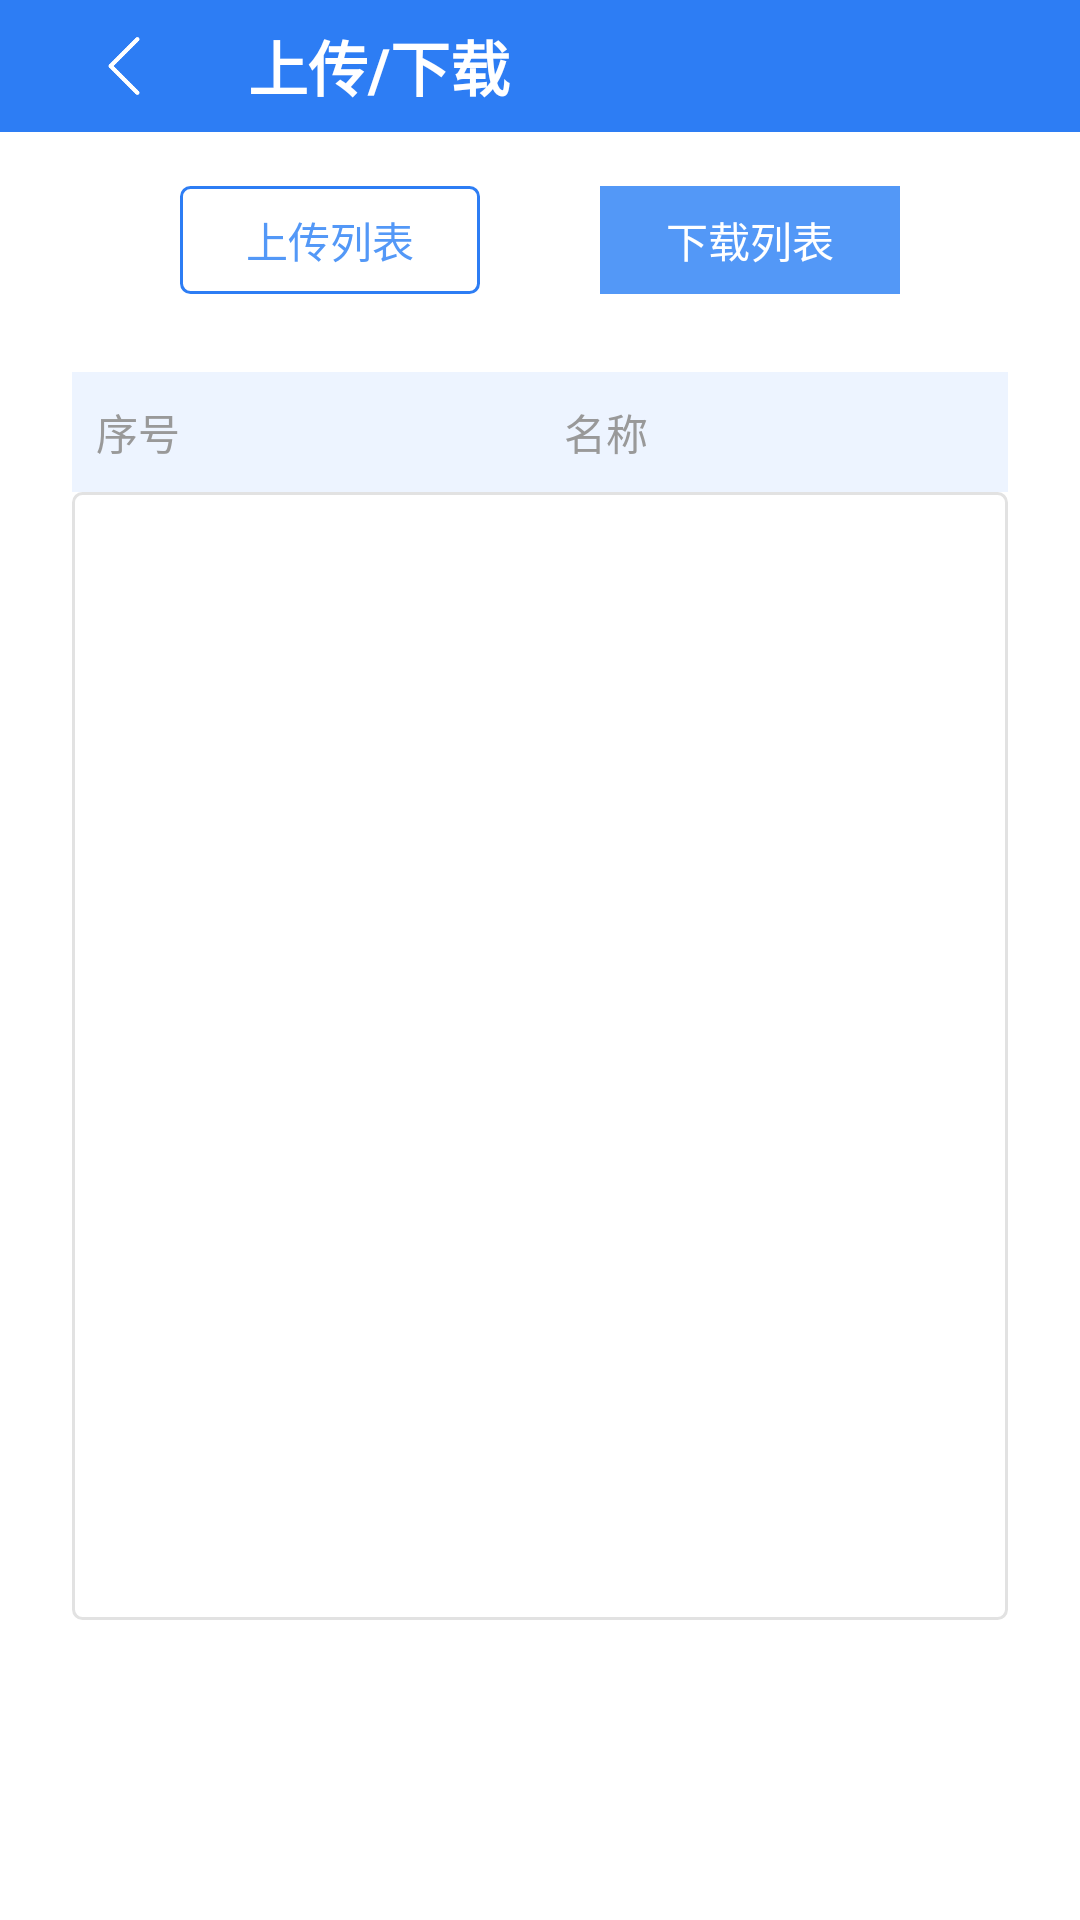

Locate icon controls on the screen. Image size 1080px x 1920px, boxes as bbox(x1, y1, x2, y2).
left: bbox(108, 37, 140, 95)
